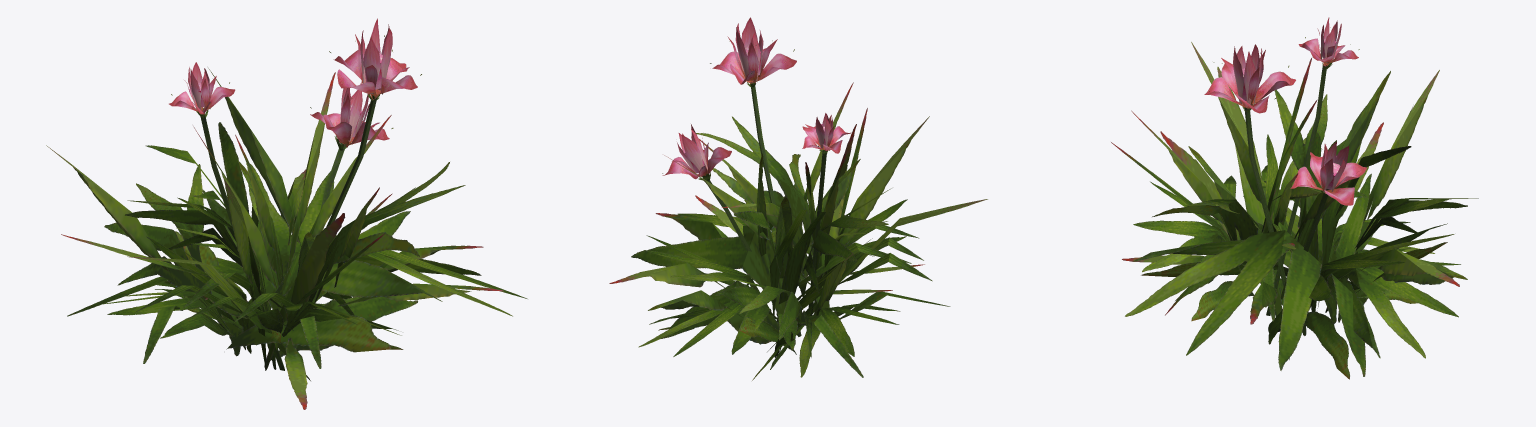
Rendered from 1004_Item_hua_1.FBX.
3 views of the same model, side by side, from view 1: azimuth 30°, elevation 25°; view 2: azimuth 150°, elevation 25°; view 3: azimuth 270°, elevation 25° (orthographic). The views are drawn at different scales.
Parts seen in each view (by area): view 1: 1004_Item_hua_1; view 2: 1004_Item_hua_1; view 3: 1004_Item_hua_1.
Part boxes in pixels (left/top/right/bottom): 1004_Item_hua_1: left=46, top=18, right=527, bottom=409; 1004_Item_hua_1: left=609, top=17, right=987, bottom=380; 1004_Item_hua_1: left=1111, top=17, right=1478, bottom=379.
Bounding box in the file's own units: 359 × 332 × 270.
